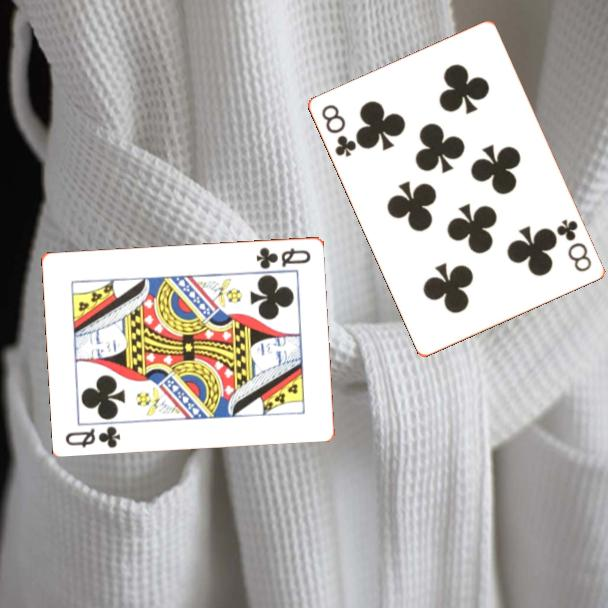c08: (553, 215, 595, 275), (318, 101, 360, 160)
c12: (253, 244, 314, 272), (62, 422, 123, 450)
